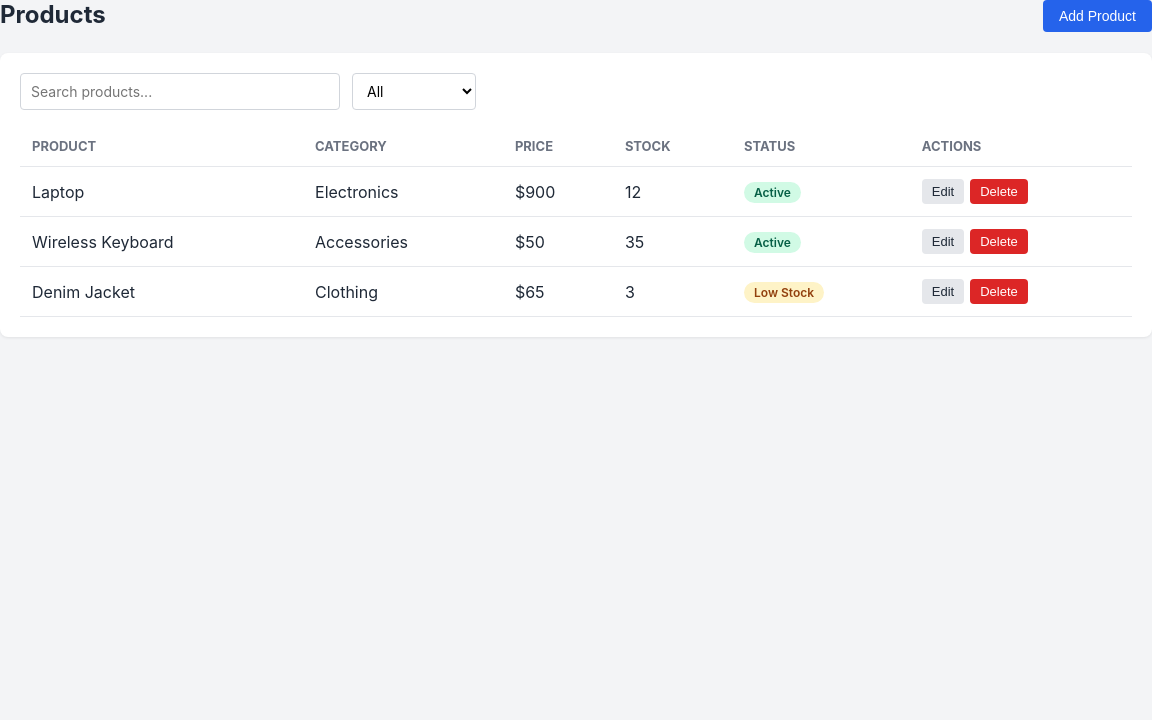
shows validation errors for empty fields
The image size is (1152, 720).
Expected: the text "Laptop" is shown, 20,166 -> 303,216
Click the button "Add Product".
click(1097, 16)  # box 1043,0 -> 1151,32
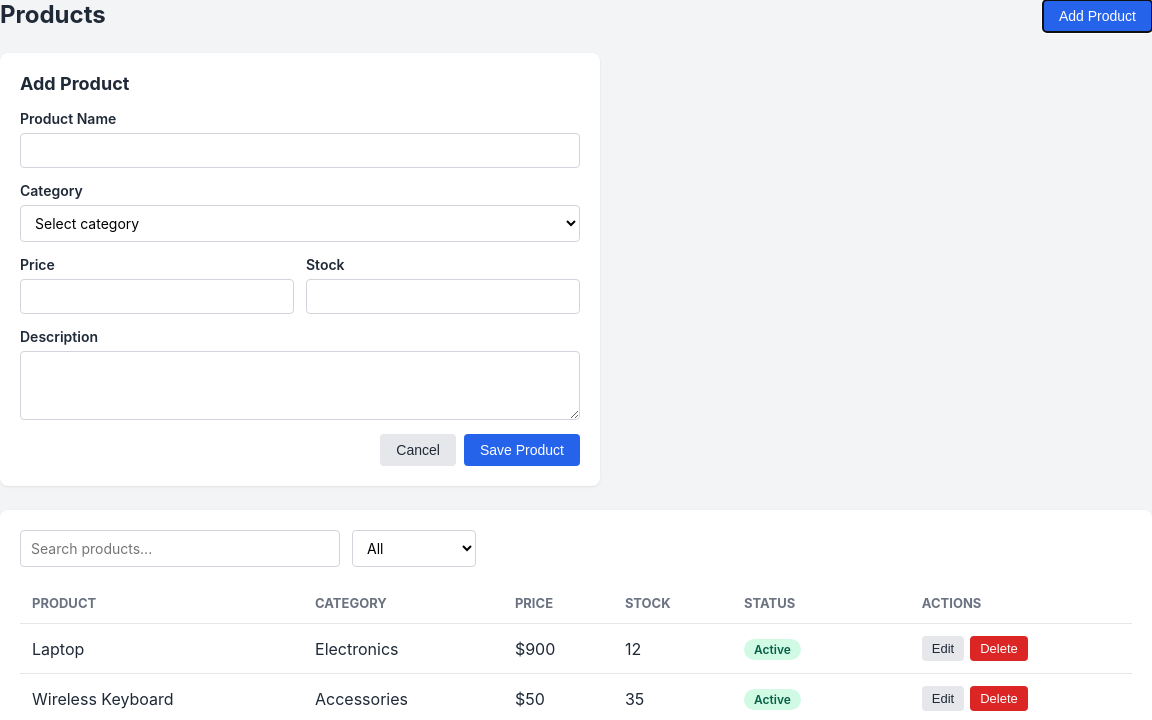
Click the button "Save Product".
click(522, 450)  # box 464,434 -> 580,466
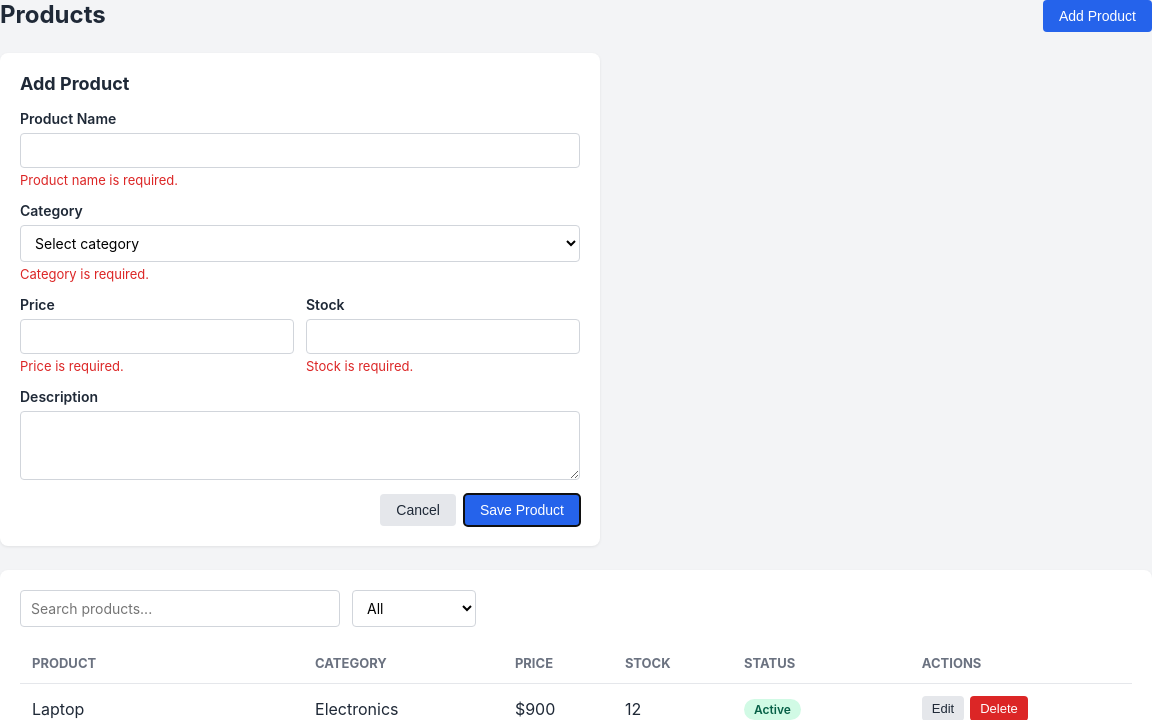
Expected: the text "Product name is required." is shown, 20,172 -> 178,188
Expected: the text "Category is required." is shown, 20,266 -> 149,282
Expected: the text "Price is required." is shown, 20,358 -> 124,374
